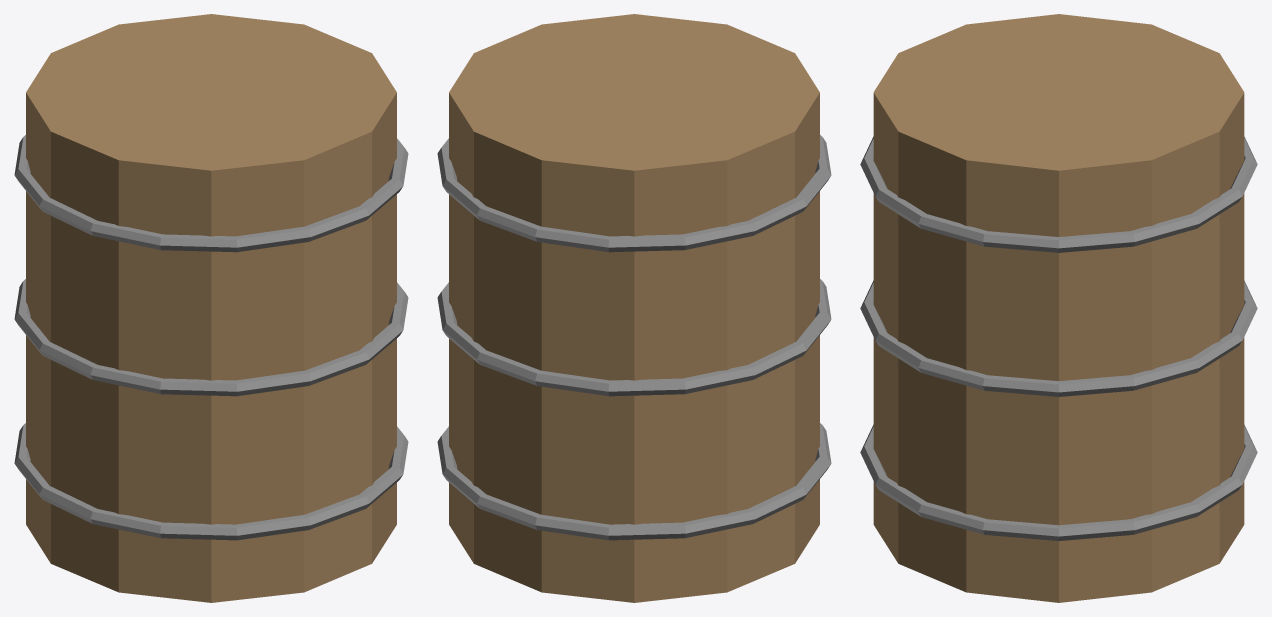
The model's file is barrel_2.glb.
3 views of the same model, side by side, from view 1: azimuth 30°, elevation 25°; view 2: azimuth 150°, elevation 25°; view 3: azimuth 270°, elevation 25° (orthographic).
Visible parts, largest first — view 1: barrel_2, barrel_2_band, barrel_2_band.002, barrel_2_band.001; view 2: barrel_2, barrel_2_band, barrel_2_band.002, barrel_2_band.001; view 3: barrel_2, barrel_2_band.002, barrel_2_band.001, barrel_2_band.
Boxes of the visible parts, x1,y1,x2,y2 form: barrel_2: [26, 14, 396, 602]; barrel_2_band: [14, 423, 408, 540]; barrel_2_band.002: [14, 135, 408, 252]; barrel_2_band.001: [14, 279, 408, 396]; barrel_2: [449, 14, 819, 602]; barrel_2_band: [437, 423, 831, 540]; barrel_2_band.002: [437, 135, 831, 252]; barrel_2_band.001: [437, 279, 831, 396]; barrel_2: [873, 14, 1244, 602]; barrel_2_band.002: [860, 136, 1257, 252]; barrel_2_band.001: [860, 280, 1257, 396]; barrel_2_band: [860, 424, 1257, 540].
Bounding box in the file's own units: 0.75 × 0.9 × 0.75.
